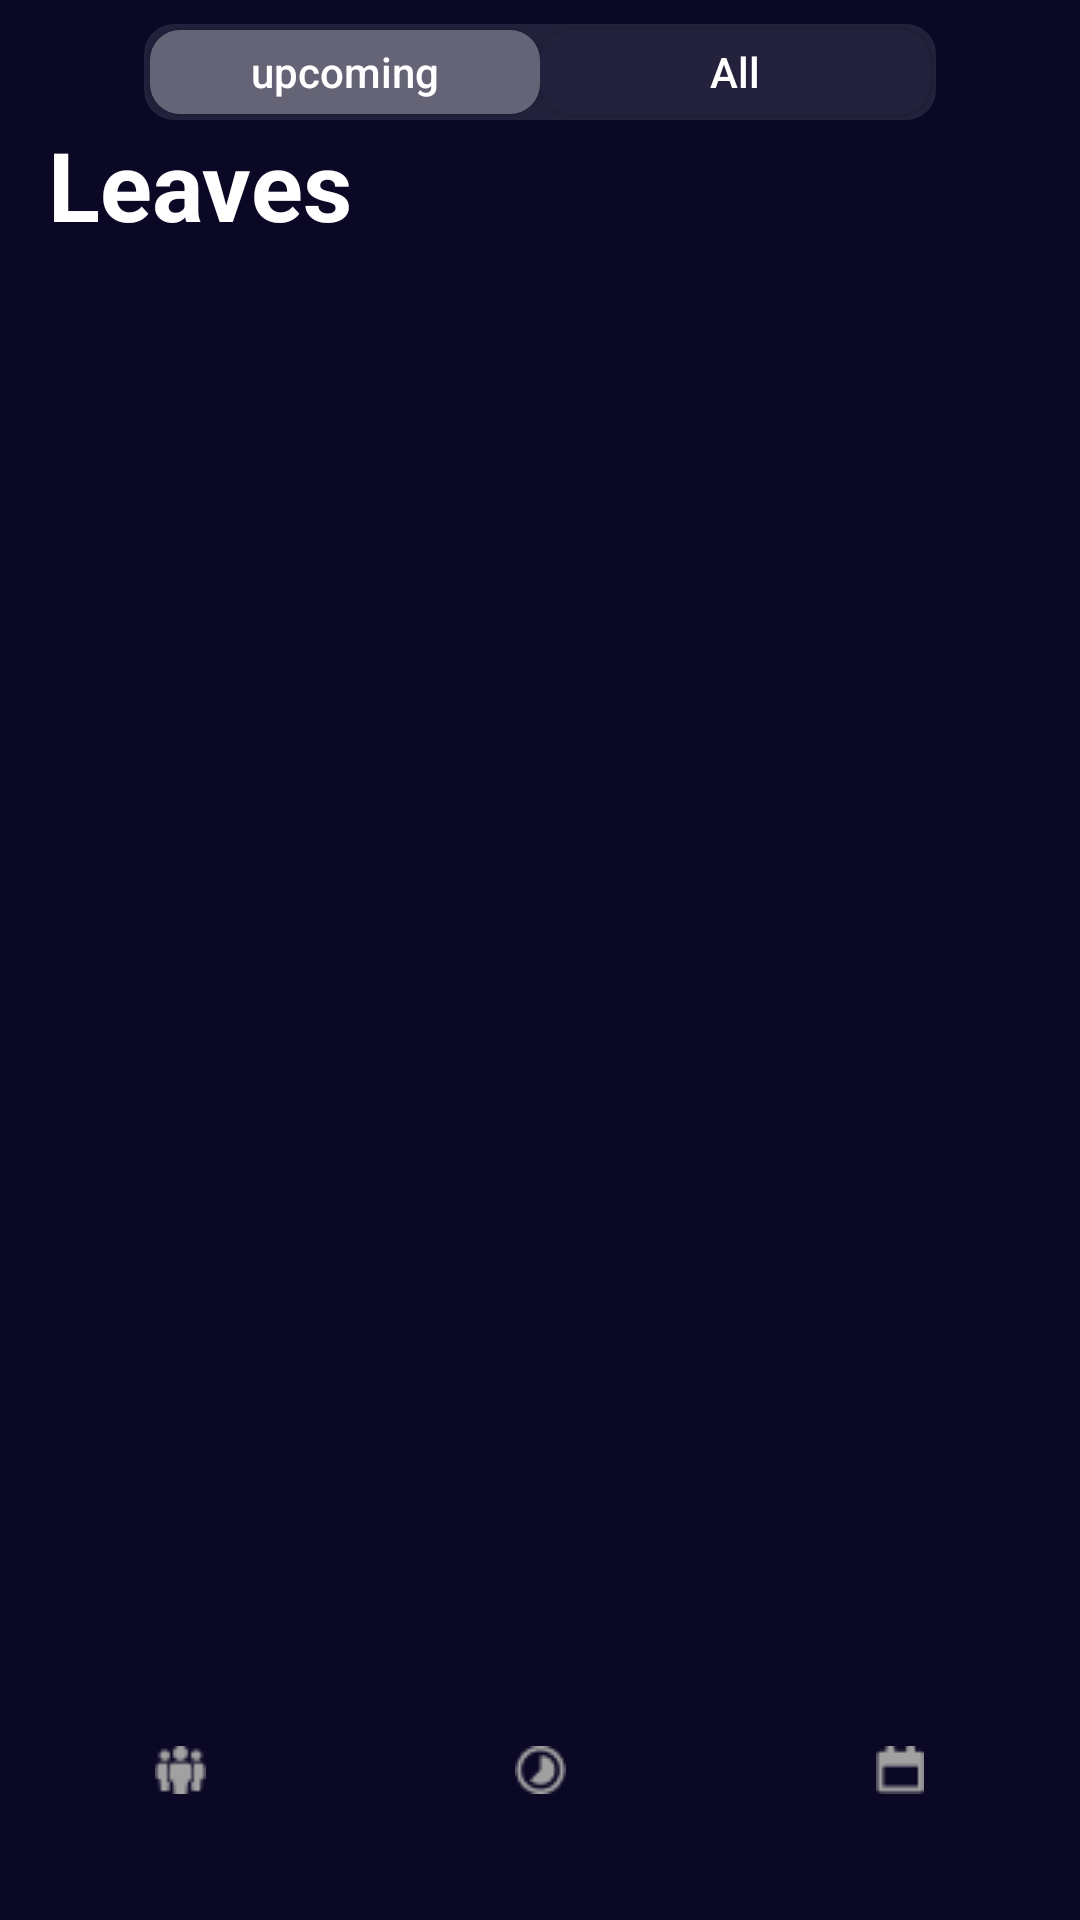

Where to tap for icons on this 1080×1920 app screen, as (x,y):
go to calendar: (900,1770)
go to team's activity: (180,1770)
